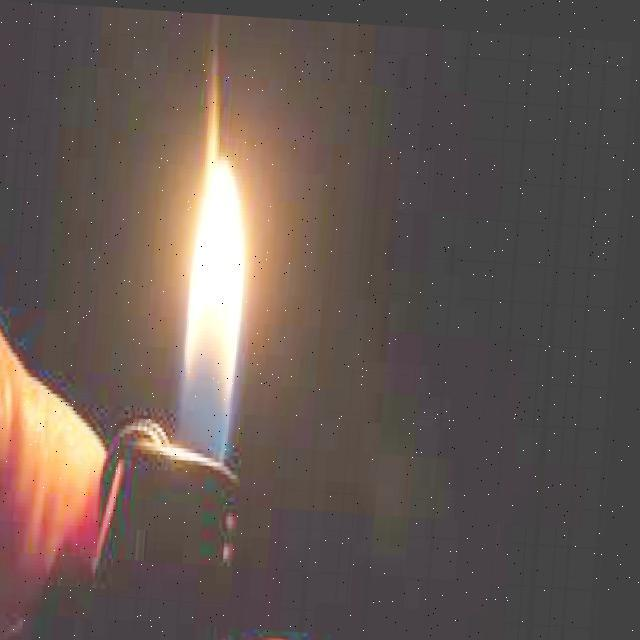Fire: (166, 120, 268, 463)
